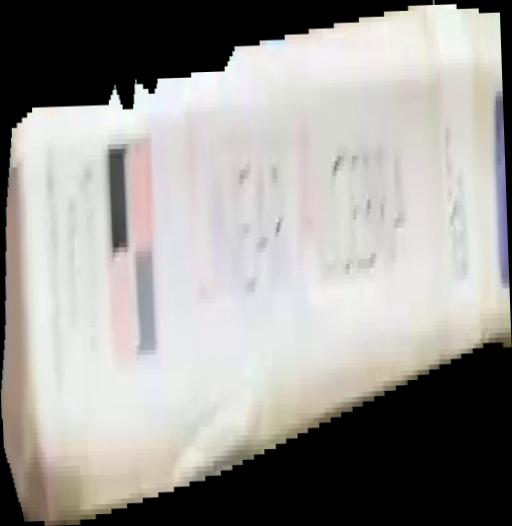flat: (1, 1, 512, 526)
